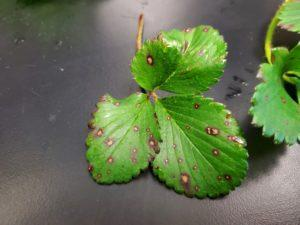black-spot: (165, 102, 223, 186)
